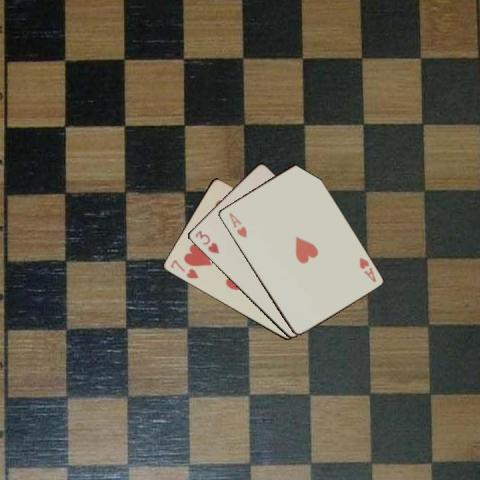3h: (192, 228, 220, 256)
7h: (167, 257, 200, 280)
Ah: (226, 210, 248, 240), (356, 255, 377, 284)
